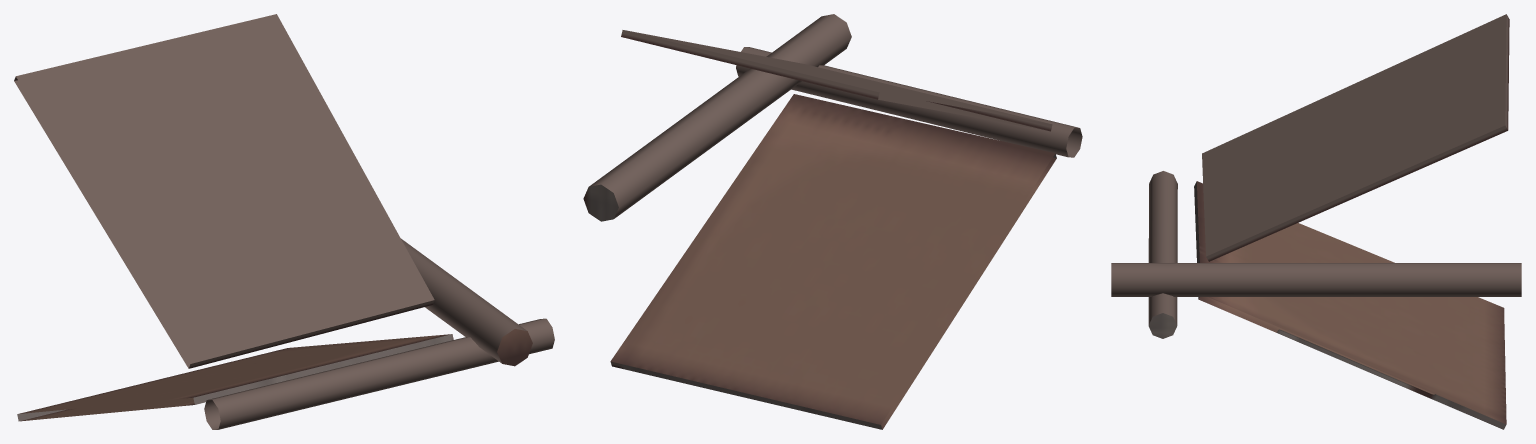
Rendered from section-3.obj.
3 renders of one model, left to right at view 1: azimuth 30°, elevation 25°; view 2: azimuth 150°, elevation 25°; view 3: azimuth 270°, elevation 25°, orthographic. The views are drawn at different scales.
Bounding box in the file's own units: 0.9801 × 0.9652 × 1.2.
